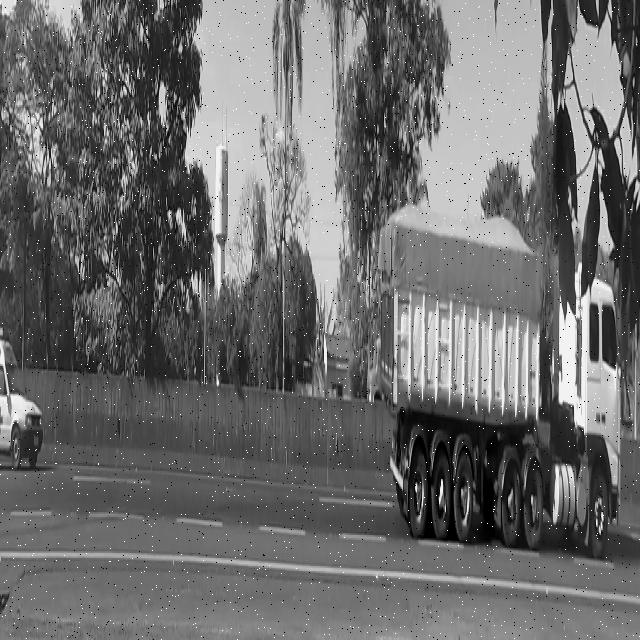-axle: (407, 443, 429, 546), (589, 457, 611, 558), (430, 441, 450, 546), (452, 446, 473, 546), (500, 457, 520, 551), (524, 457, 543, 551)
